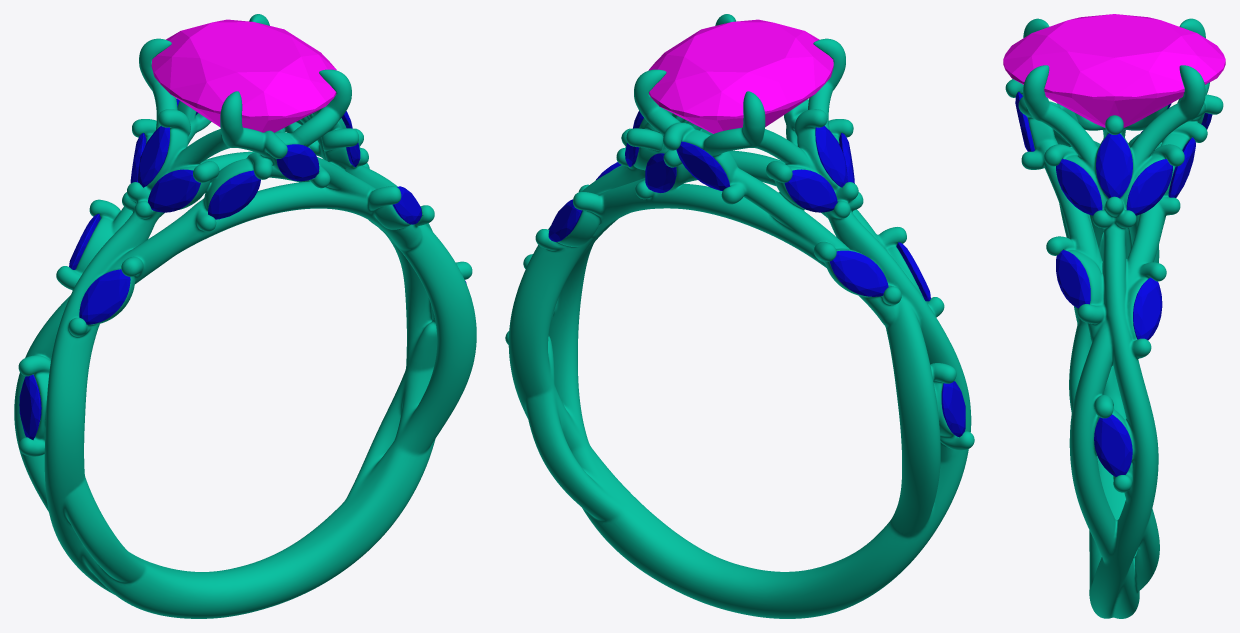
The model's file is OV_2CT_Silver.glb.
The picture shows the model from 3 angles, left to right: view 1: azimuth 30°, elevation 25°; view 2: azimuth 150°, elevation 25°; view 3: azimuth 270°, elevation 25°; orthographic projection.
Visible parts, largest first — view 1: Metal 01, CS_Diamond_Oval, Diamond_Marquise_side.010, Diamond_Marquise_side.004, Diamond_Marquise_side.012, Diamond_Marquise_side.003, Diamond_Marquise_side.014, Diamond_Marquise_side.011, Diamond_Marquise_side.006; view 2: Metal 01, CS_Diamond_Oval, Diamond_Marquise_side.009, Diamond_Marquise_side.005, Diamond_Marquise_side.015, Diamond_Marquise_side.003, Diamond_Marquise_side.011, Diamond_Marquise_side.013, Diamond_Marquise_side.007; view 3: Metal 01, CS_Diamond_Oval, Diamond_Marquise_side.002, Diamond_Marquise_side.008, Diamond_Marquise_side.001, Diamond_Marquise_side, Diamond_Marquise_side.006, Diamond_Marquise_side.007, Diamond_Marquise_side.013, Diamond_Marquise_side.014.
Boxes of the visible parts, box(x1,y1,x2,y2) form: Metal 01: box(14, 14, 476, 618); CS_Diamond_Oval: box(151, 19, 336, 132); Diamond_Marquise_side.010: box(79, 269, 130, 324); Diamond_Marquise_side.004: box(148, 169, 200, 212); Diamond_Marquise_side.012: box(208, 170, 260, 219); Diamond_Marquise_side.003: box(137, 126, 169, 187); Diamond_Marquise_side.014: box(276, 144, 319, 181); Diamond_Marquise_side.011: box(19, 374, 41, 439); Diamond_Marquise_side.006: box(392, 186, 421, 224); Metal 01: box(505, 14, 974, 618); CS_Diamond_Oval: box(648, 19, 833, 133); Diamond_Marquise_side.009: box(830, 250, 888, 296); Diamond_Marquise_side.005: box(784, 169, 837, 212); Diamond_Marquise_side.015: box(676, 141, 729, 191); Diamond_Marquise_side.003: box(815, 126, 847, 187); Diamond_Marquise_side.011: box(941, 381, 965, 437); Diamond_Marquise_side.013: box(645, 153, 676, 192); Diamond_Marquise_side.007: box(548, 199, 582, 241); Metal 01: box(1005, 18, 1223, 618); CS_Diamond_Oval: box(1003, 14, 1225, 127); Diamond_Marquise_side.002: box(1096, 133, 1132, 198); Diamond_Marquise_side.008: box(1094, 414, 1132, 476); Diamond_Marquise_side.001: box(1056, 159, 1102, 215); Diamond_Marquise_side: box(1126, 159, 1172, 215); Diamond_Marquise_side.006: box(1056, 250, 1090, 308); Diamond_Marquise_side.007: box(1133, 277, 1162, 340); Diamond_Marquise_side.013: box(1168, 137, 1195, 197); Diamond_Marquise_side.014: box(1015, 92, 1034, 151).
Size of the model in its own units: 21.29 by 24.97 by 9.
